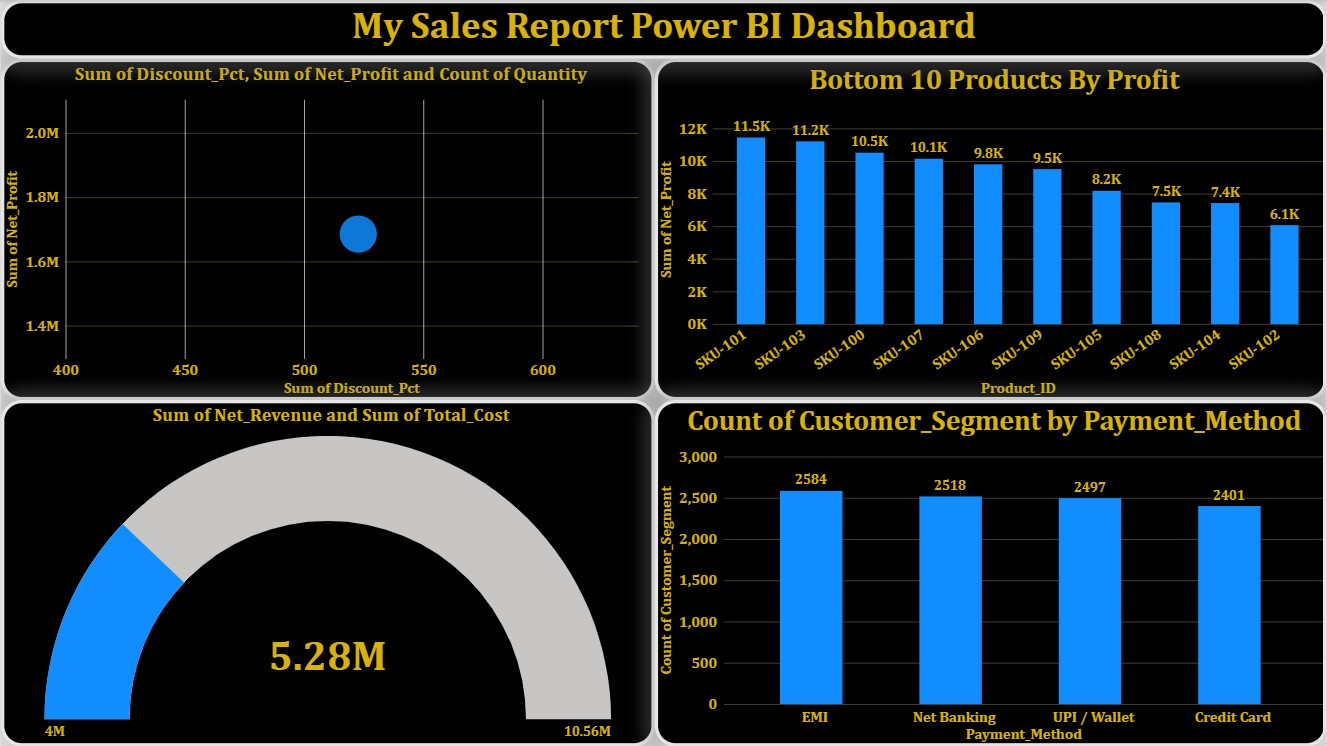

The dashboard page shown, as its layout file describes it:
{"tool":"powerbi","page":{"name":"Page 2","canvas":[1920,1080],"ordinal":1},"visuals":[{"type":"scatterChart","fields":{"Size":["CountNonNull(Sales_Report.Quantity)"],"X":["Sum(Sales_Report.Discount_Pct)"],"Y":["Sum(Sales_Report.Net_Profit)"]},"box":[0,85.1,946.5,494],"z":0},{"type":"columnChart","title":"Bottom 10 Products By Profit","fields":{"Category":["Sales_Report.Product_ID"],"Y":["Sum(Sales_Report.Net_Profit)"]},"box":[946.5,85.1,973.6,494],"z":1},{"type":"gauge","fields":{"MinValue":["Sum(Sales_Report.Total_Cost)"],"Y":["Sum(Sales_Report.Net_Revenue)"]},"box":[0,579.1,946.5,501.3],"z":2},{"type":"columnChart","fields":{"Category":["Sales_Report.Payment_Method"],"Y":["CountNonNull(Sales_Report.Customer_Segment)"]},"box":[946.5,579.1,973.6,501.3],"z":3},{"type":"textbox","box":[0,0,1920.1,85.1],"z":4}]}

Visuals, with their boxes in screenshot pixels (x1, y1, x2, y2), scaled from the page's 1920x1080 canvas onto the 1327x746 screenshot:
scatterChart - CountNonNull(Sales_Report.Quantity) x Sum(Sales_Report.Discount_Pct): (left=0, top=59, right=654, bottom=400)
"Bottom 10 Products By Profit" columnChart: (left=654, top=59, right=1326, bottom=400)
gauge - Sum(Sales_Report.Total_Cost) x Sum(Sales_Report.Net_Revenue): (left=0, top=400, right=654, bottom=745)
columnChart - Sales_Report.Payment_Method x CountNonNull(Sales_Report.Customer_Segment): (left=654, top=400, right=1326, bottom=745)
textbox: (left=0, top=0, right=1326, bottom=59)
